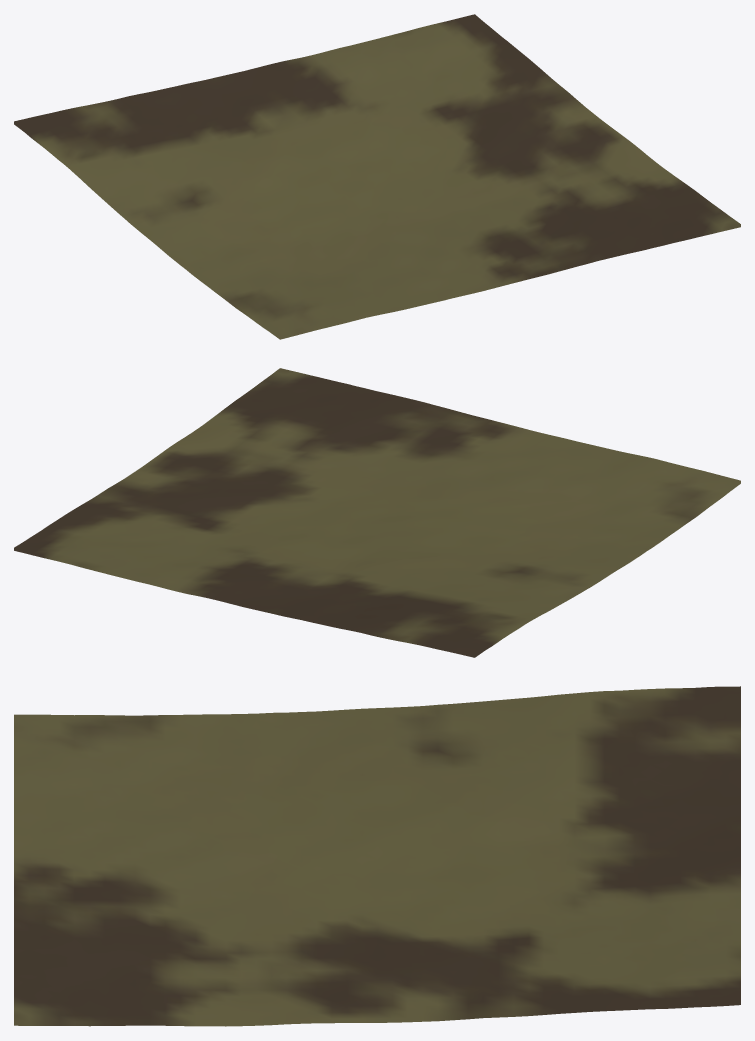
Rendered from land_m_11_02.glb.
3 views of the same model, one above another, from view 1: azimuth 30°, elevation 25°; view 2: azimuth 150°, elevation 25°; view 3: azimuth 270°, elevation 25° (orthographic). The views are drawn at different scales.
Visible parts, largest first — view 1: land_m_11_02; view 2: land_m_11_02; view 3: land_m_11_02.
Part boxes in pixels (box(x1,y1,x2,y2)): land_m_11_02: box(14, 14, 740, 339); land_m_11_02: box(14, 368, 740, 657); land_m_11_02: box(14, 686, 740, 1026).
Bounding box in the file's own units: 960 × 48.82 × 960.
